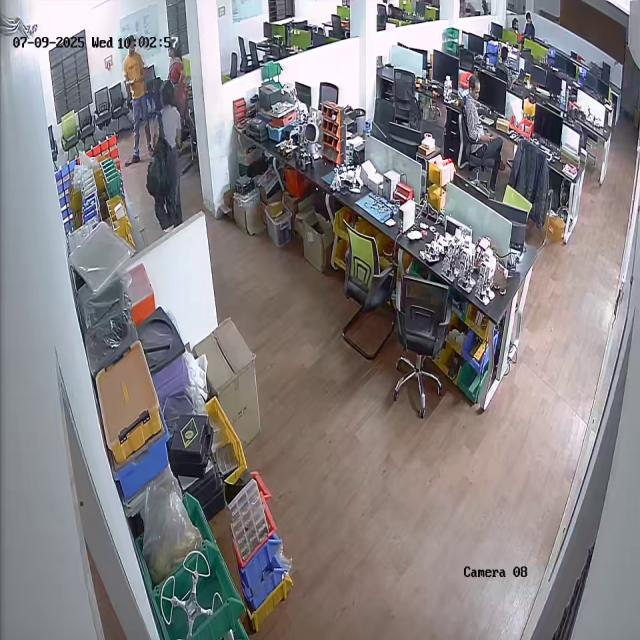person: (142, 80, 185, 232), (120, 34, 152, 163)
